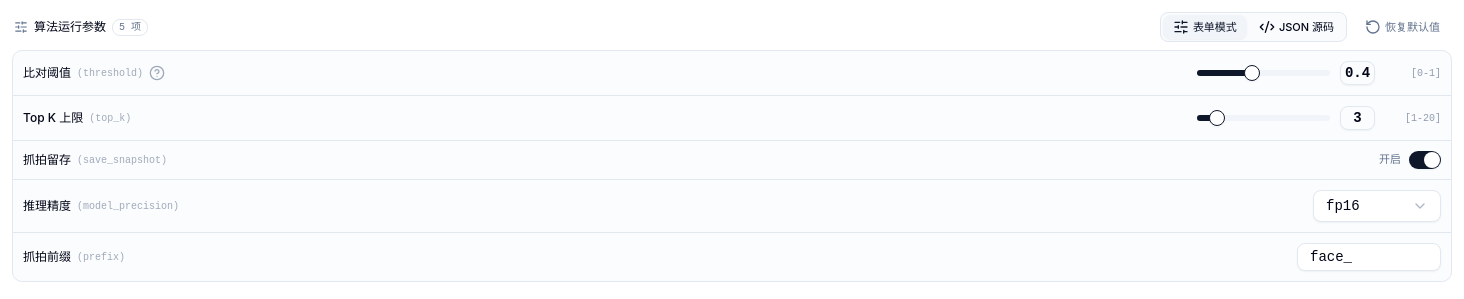
AlgoConfigDynamicForm · 数值字段 › clamps an out-of-range typed value instead of committing it
The width and height of the screenshot is (1464, 299).
Step 1. Replace the text in the field labelled "比对阈值" with "9" → (1357, 73), box [1340, 61, 1375, 85]
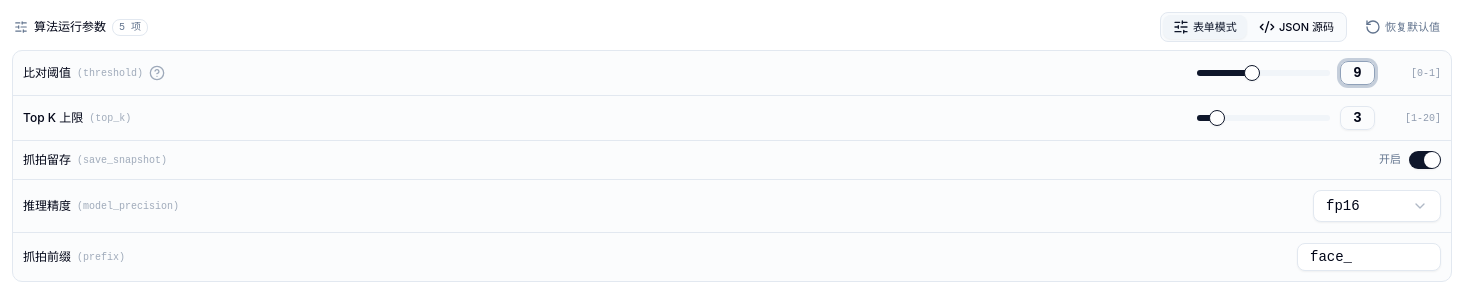
Step 2. Press Enter
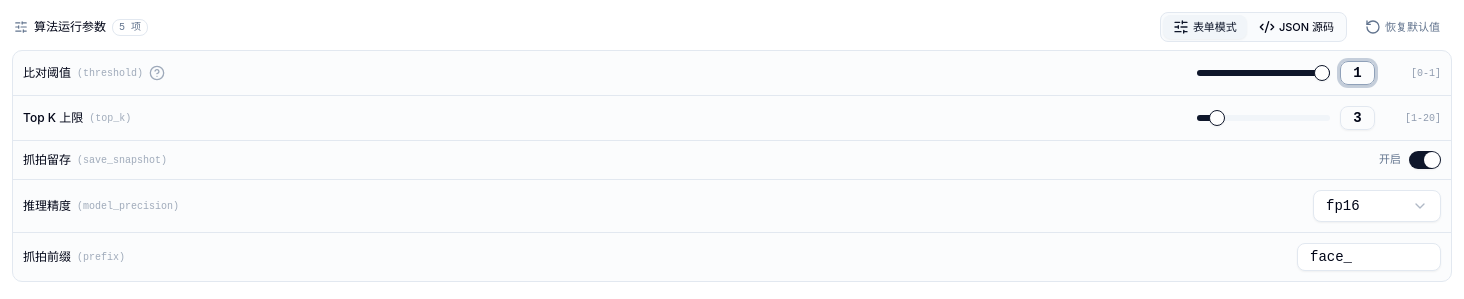
Now the field labelled "比对阈值" holds "1", box [1340, 61, 1375, 85]
